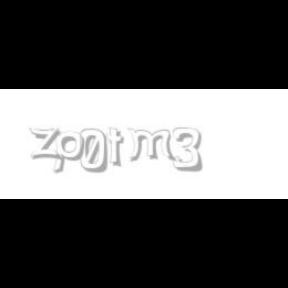0: (79, 128, 110, 174)
3: (172, 128, 204, 172)
m: (126, 128, 178, 162)
p: (52, 128, 88, 174)
t: (106, 128, 128, 168)
z: (29, 128, 65, 160)
